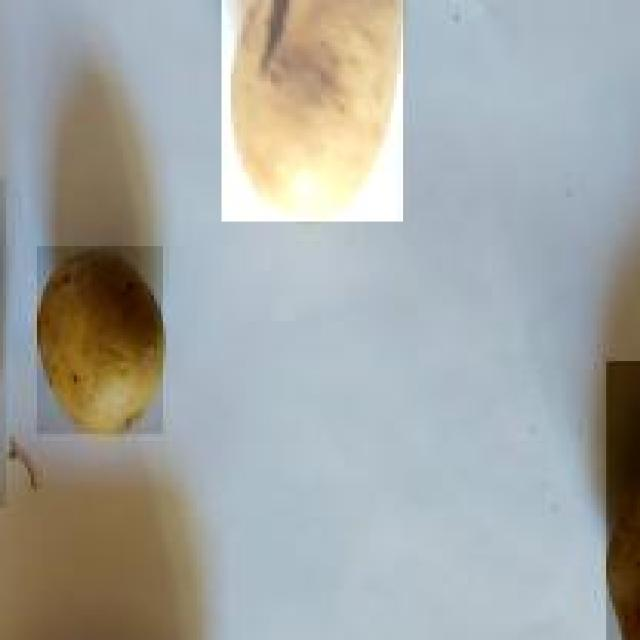potato: (225, 0, 409, 225), (35, 246, 168, 437)
